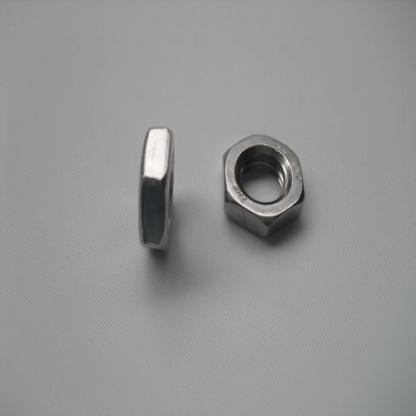FOD: (221, 131, 306, 240), (134, 124, 180, 261)
